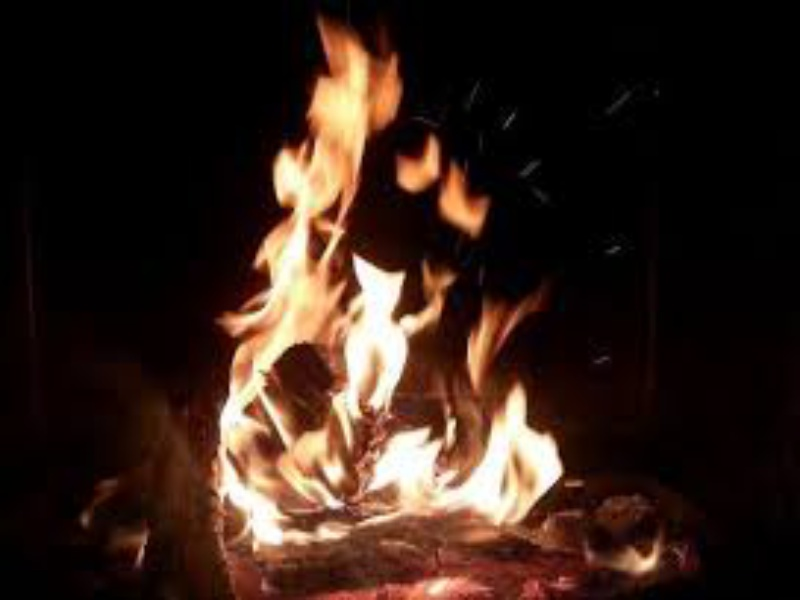fire: (215, 3, 567, 551), (582, 536, 677, 580)
